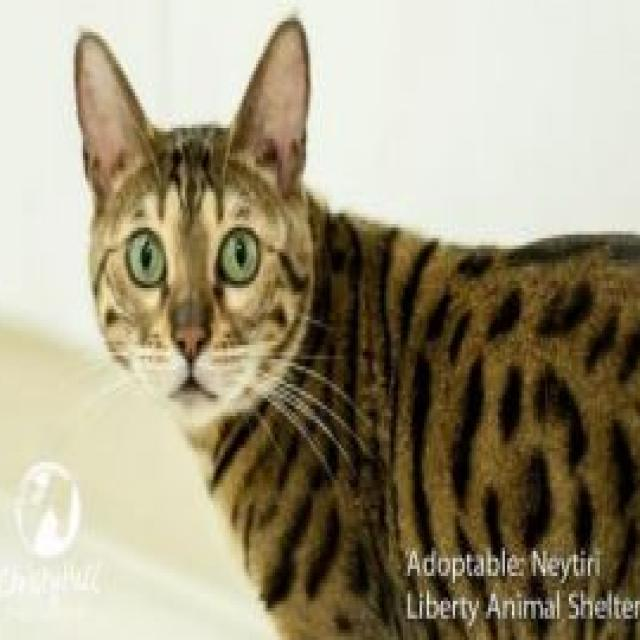Bengal: (66, 14, 640, 640)
